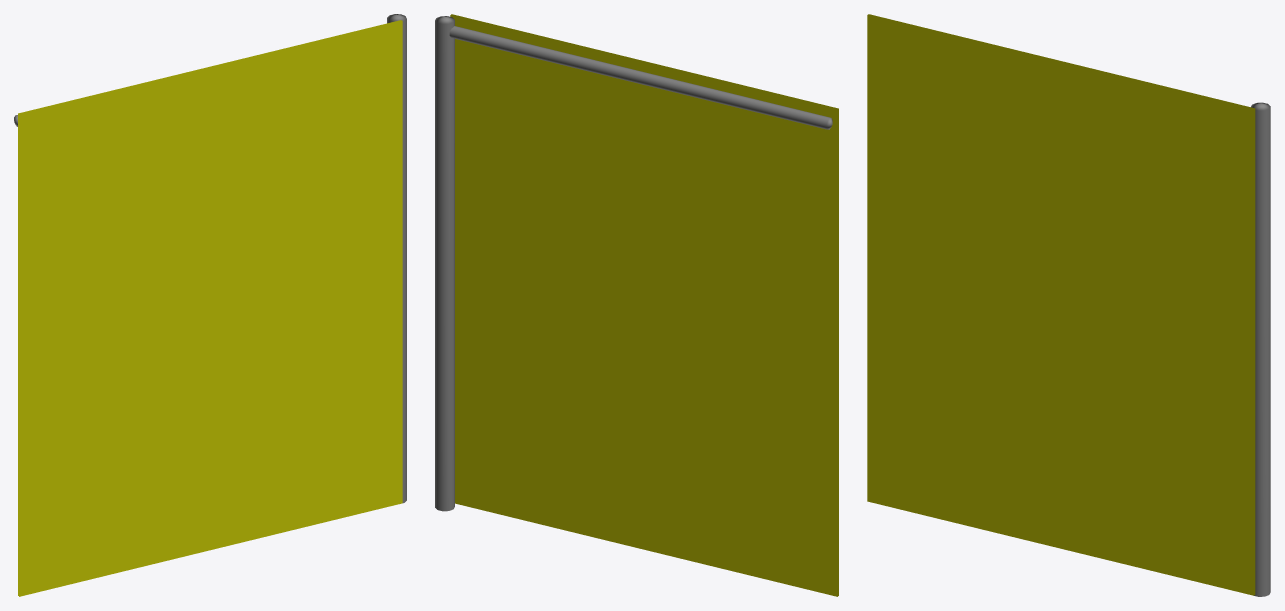
Rendered from chainGateSide1.fbx.
3 renders of one model, left to right at view 1: azimuth 30°, elevation 25°; view 2: azimuth 150°, elevation 25°; view 3: azimuth 330°, elevation 25°, orthographic.
Parts seen in each view (by area): view 1: pPlane6; view 2: pPlane6; view 3: pPlane6.
Boxes of the visible parts, left/top/right/bottom form: pPlane6: left=14, top=14, right=406, bottom=596; pPlane6: left=435, top=14, right=838, bottom=596; pPlane6: left=867, top=14, right=1270, bottom=596.
Bounding box in the file's own units: 198 × 233 × 9.33.
